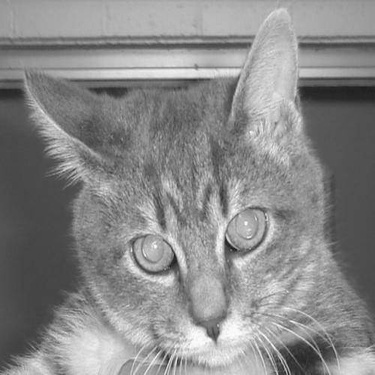cat: (15, 4, 362, 364)
